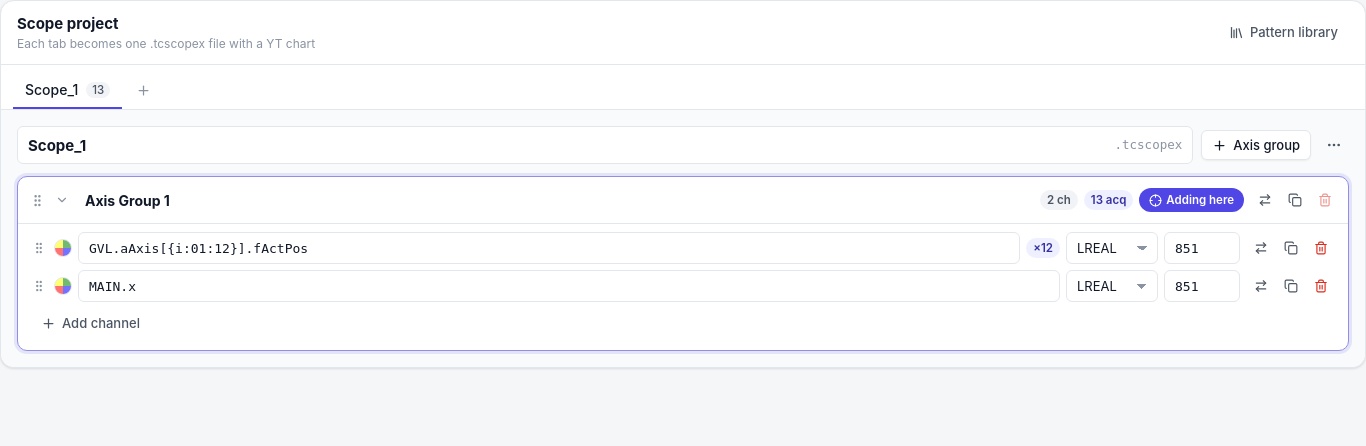
channel name and colour › picks palette, custom and automatic colours
Later steps or results of the test are not shown.
Click the button named "Name and colour" in the row of "12".
click(63, 248)  # box [54,239,72,257]
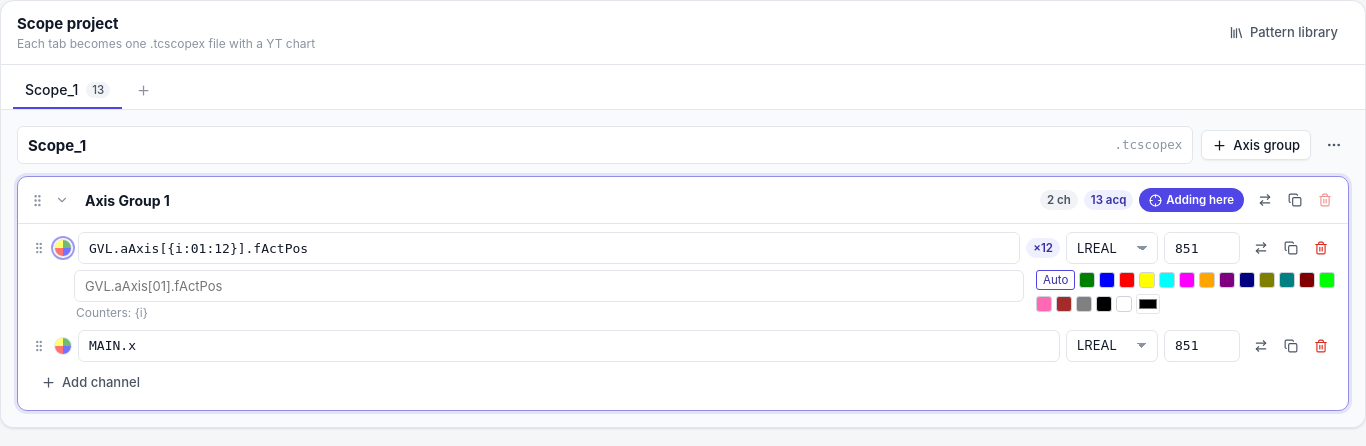
Result: the button named "Name and colour" in the row of "12" is expanded at [54,239,72,257]
Click the button named "Red".
click(1127, 280)  # box [1119,272,1135,288]
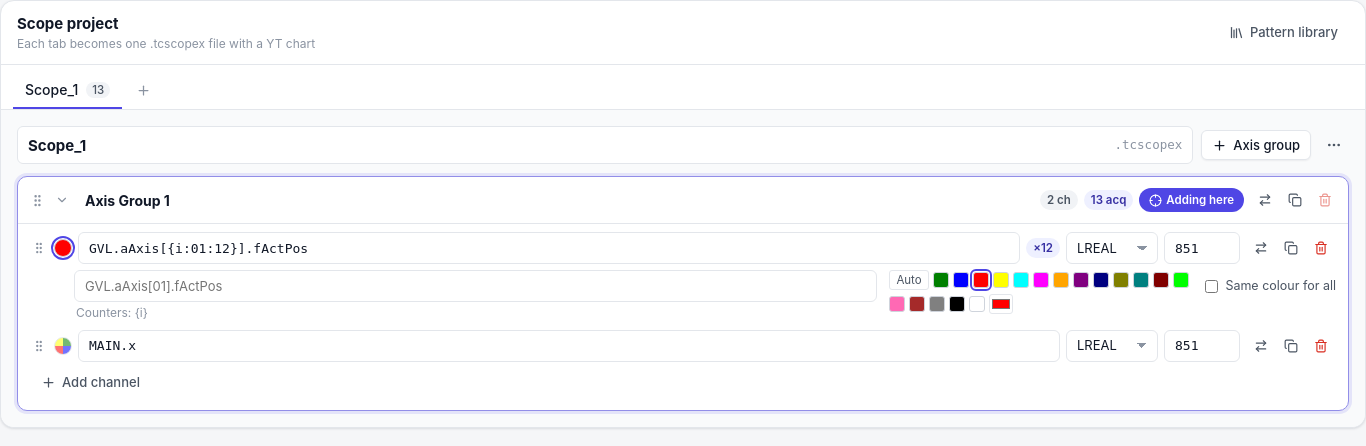
Result: the button named "Red" is pressed at [973,272,989,288]
